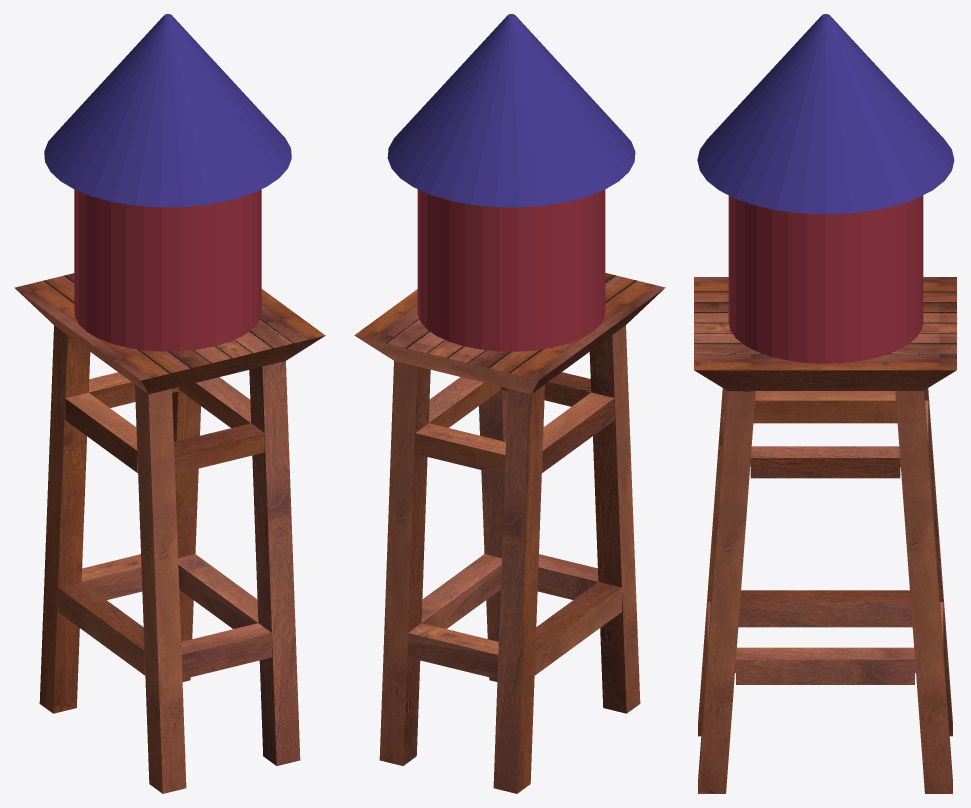
File: Caixa_Dagua.fbx
3 views of the same model, side by side, from view 1: azimuth 30°, elevation 25°; view 2: azimuth 150°, elevation 25°; view 3: azimuth 270°, elevation 25° (orthographic). The views are drawn at different scales.
Visible parts, largest first — view 1: Apoio, CaixaDagua; view 2: Apoio, CaixaDagua; view 3: Apoio, CaixaDagua.
Boxes of the visible parts, box(x1,y1,x2,y2) form: Apoio: box(14, 273, 325, 793); CaixaDagua: box(44, 14, 291, 351); Apoio: box(354, 273, 665, 793); CaixaDagua: box(387, 14, 635, 351); Apoio: box(694, 277, 956, 793); CaixaDagua: box(697, 14, 954, 363).
Bounding box in the file's own units: 1511 × 4814 × 1545.
